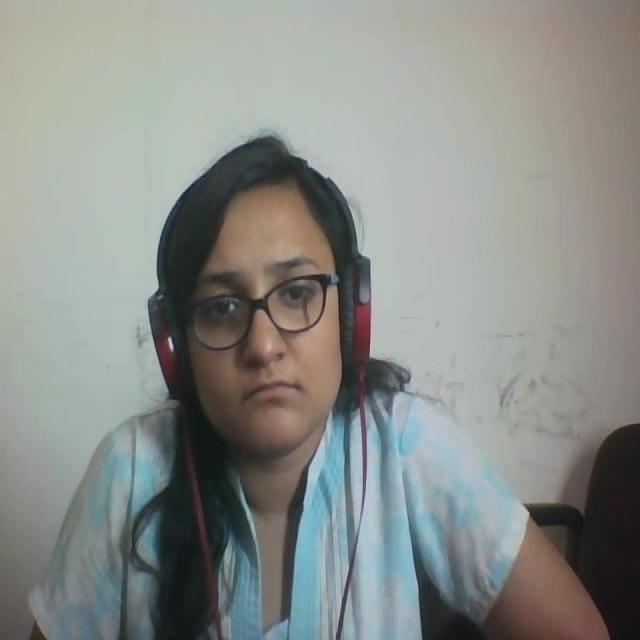Engaged: (133, 119, 412, 470)
